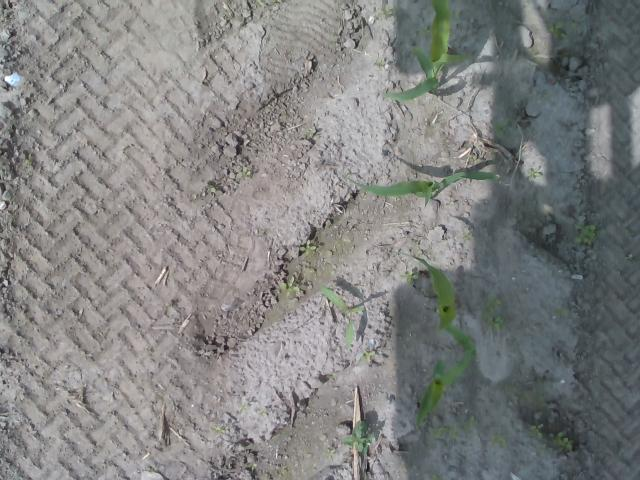Maize: (400, 250, 478, 362), (382, 0, 464, 102), (337, 168, 499, 208), (416, 349, 474, 426)
Weeds: (318, 284, 366, 350), (340, 420, 374, 454), (480, 292, 507, 333), (548, 18, 576, 40), (572, 224, 596, 244), (548, 432, 574, 450), (429, 424, 456, 440), (276, 276, 300, 294), (298, 240, 316, 256), (462, 414, 476, 432), (400, 270, 418, 284), (488, 434, 507, 447), (530, 423, 542, 439), (495, 122, 507, 138), (358, 350, 374, 360), (237, 166, 251, 177), (380, 6, 397, 15), (324, 446, 334, 460), (528, 168, 542, 178), (534, 444, 544, 457), (210, 426, 225, 434), (418, 27, 430, 36), (468, 155, 479, 164), (452, 8, 464, 16), (246, 463, 258, 471), (527, 48, 537, 57), (206, 184, 217, 192), (430, 473, 440, 480), (239, 402, 247, 410), (272, 0, 282, 6)
